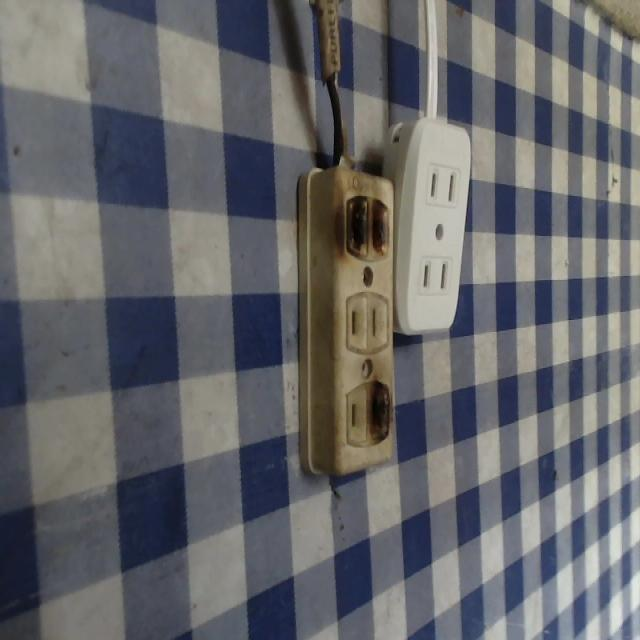-: (341, 192, 391, 261), (365, 378, 392, 442)
